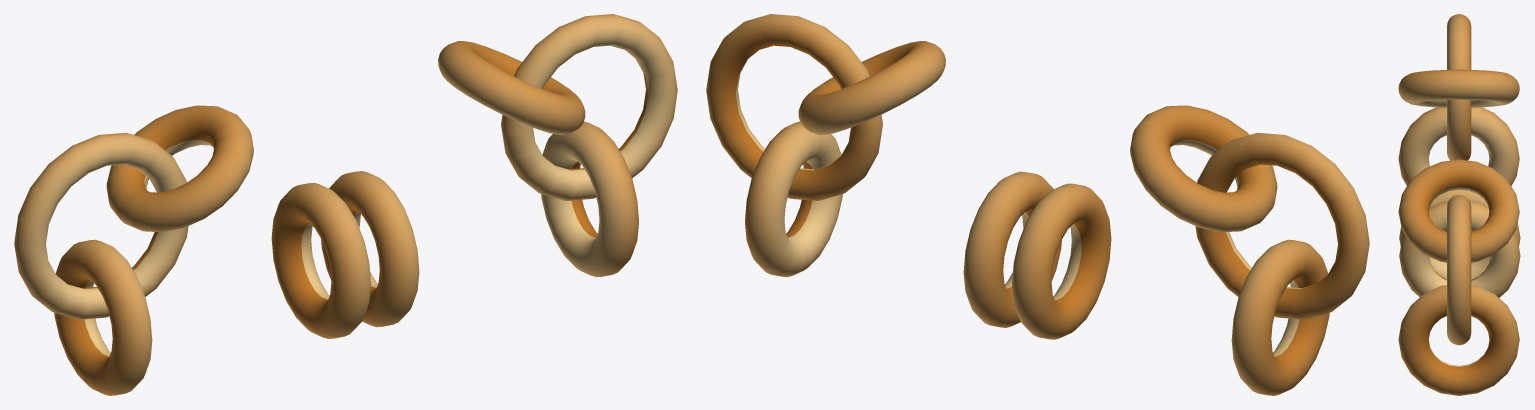
Rendered from hashigo_m_a.fbx.
3 views of the same model, side by side, from view 1: azimuth 30°, elevation 25°; view 2: azimuth 150°, elevation 25°; view 3: azimuth 270°, elevation 25° (orthographic). The views are drawn at different scales.
Parts seen in each view (by area): view 1: t3; view 2: t3; view 3: t3.
Boxes of the visible parts, x1=… form: t3: x1=14, y1=14, x2=677, y2=395; t3: x1=706, y1=14, x2=1369, y2=395; t3: x1=1398, y1=14, x2=1520, y2=395.
Bounding box in the file's own units: 19.09 × 7.03 × 4.02.
1 material, 1 textured.
